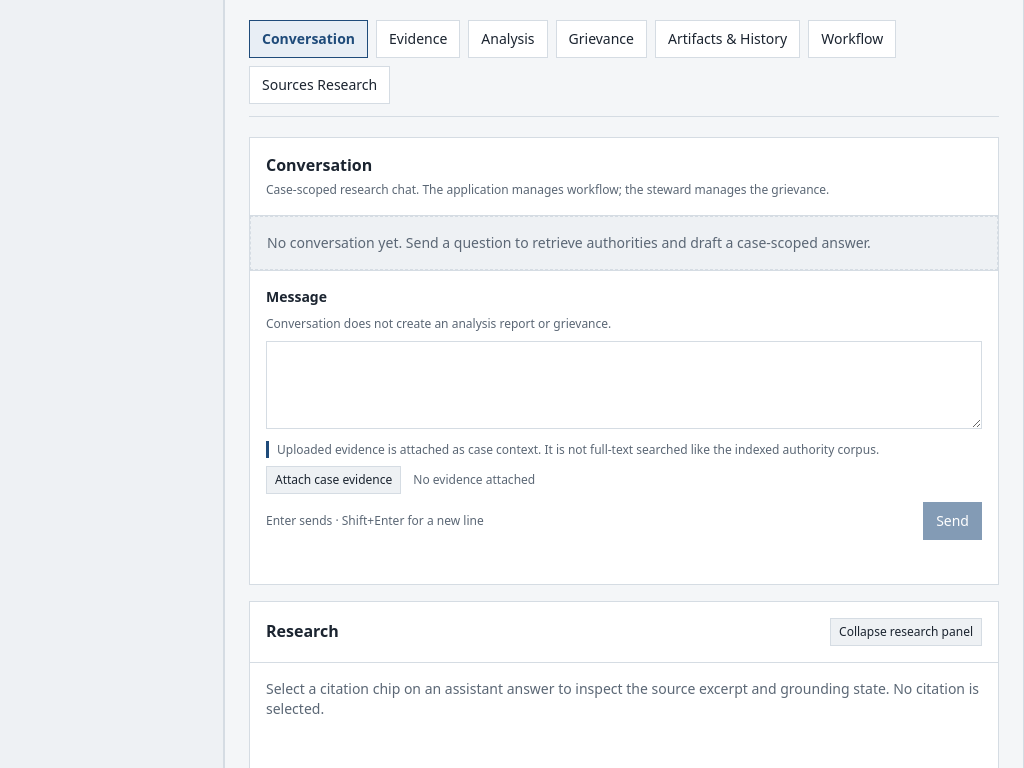
Test case: W6 M3 Conversation and Retrieval › reconciles persisted messages without duplicates after refetch
(page scrolled)
Expected: the heading "Conversation" is shown, [266,154,372,176]
Type "What about Article 10?" into the text box labelled "Message" at (624, 385), box [266,341,982,429]
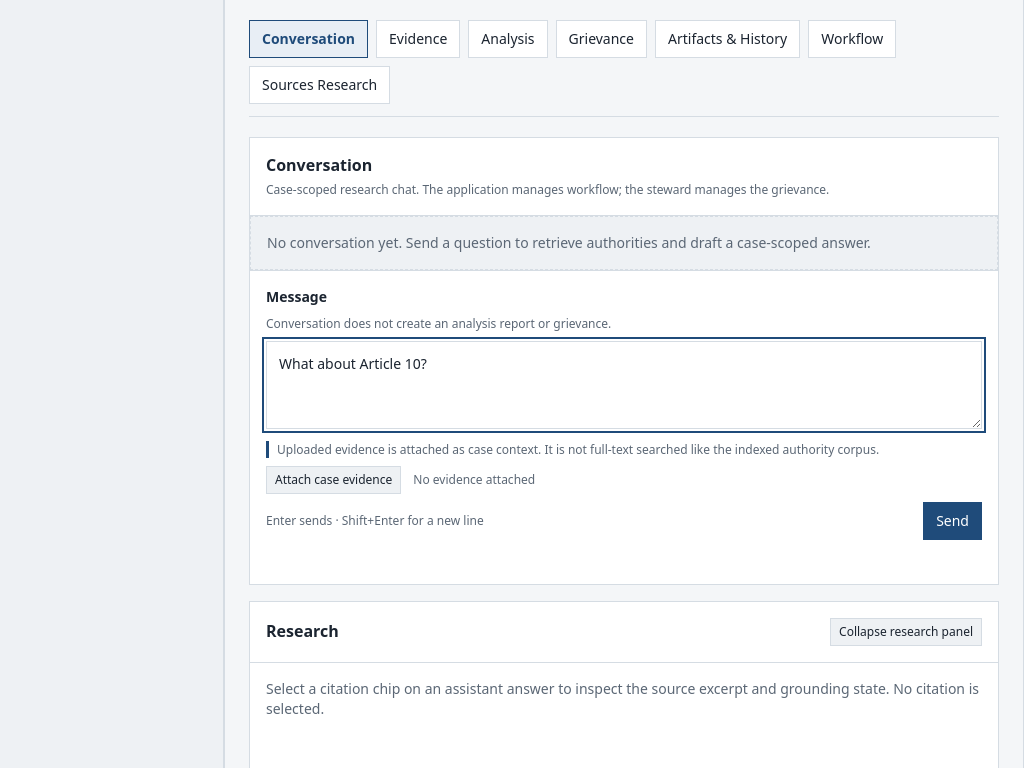
Click the button named "Send message" at (953, 521), box [923,502,982,540]
(page scrolled)
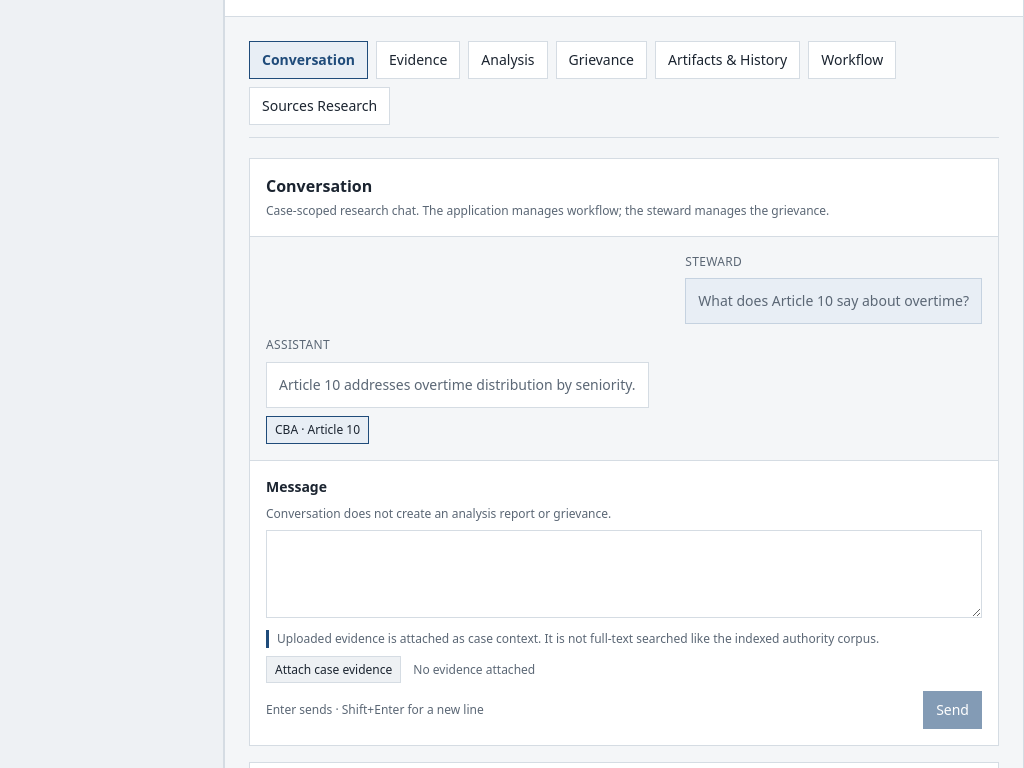
Now the text "Article 10 addresses overtime distribution by seniority." is shown once, box [279,375,636,395]
